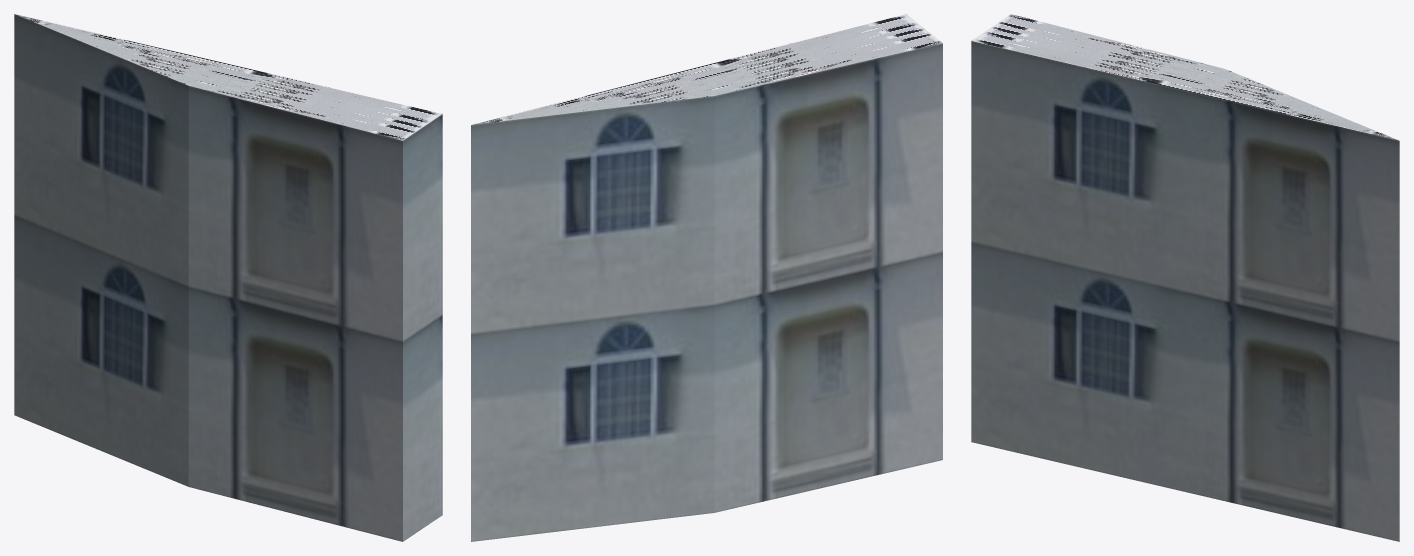
Rendered from ResTex__3804.fbx.
3 views of the same model, side by side, from view 1: azimuth 90°, elevation 25°; view 2: azimuth 150°, elevation 25°; view 3: azimuth 270°, elevation 25° (orthographic). The views are drawn at different scales.
Parts seen in each view (by area): view 1: CityEngineMaterial_17_m, CityEngineMaterial_8_m; view 2: CityEngineMaterial_17_m, CityEngineMaterial_8_m; view 3: CityEngineMaterial_17_m, CityEngineMaterial_8_m.
Boxes of the visible parts, left/top/right/bottom form: CityEngineMaterial_17_m: left=14, top=14, right=442, bottom=541; CityEngineMaterial_8_m: left=15, top=14, right=442, bottom=140; CityEngineMaterial_17_m: left=471, top=43, right=942, bottom=541; CityEngineMaterial_8_m: left=472, top=14, right=942, bottom=124; CityEngineMaterial_17_m: left=971, top=41, right=1399, bottom=541; CityEngineMaterial_8_m: left=971, top=14, right=1398, bottom=140.
Bounding box in the file's own units: 4.07 × 6 × 5.81.
Materials: 2 (2 with a texture image).
